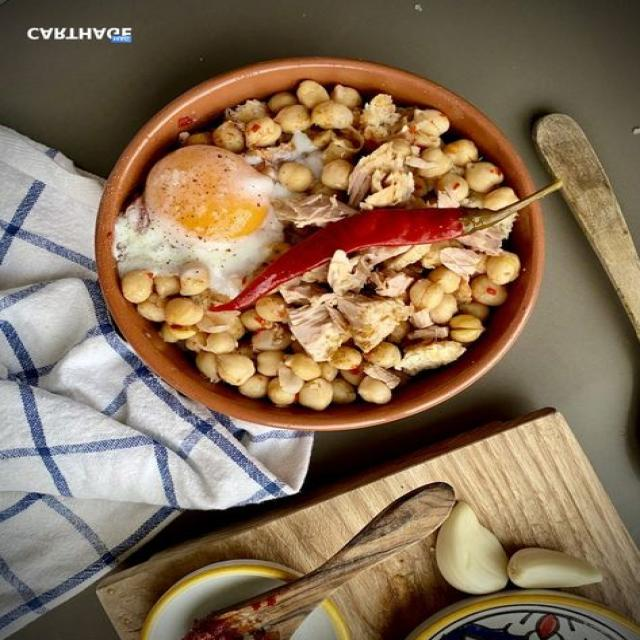Lablabi: (107, 77, 560, 429)
